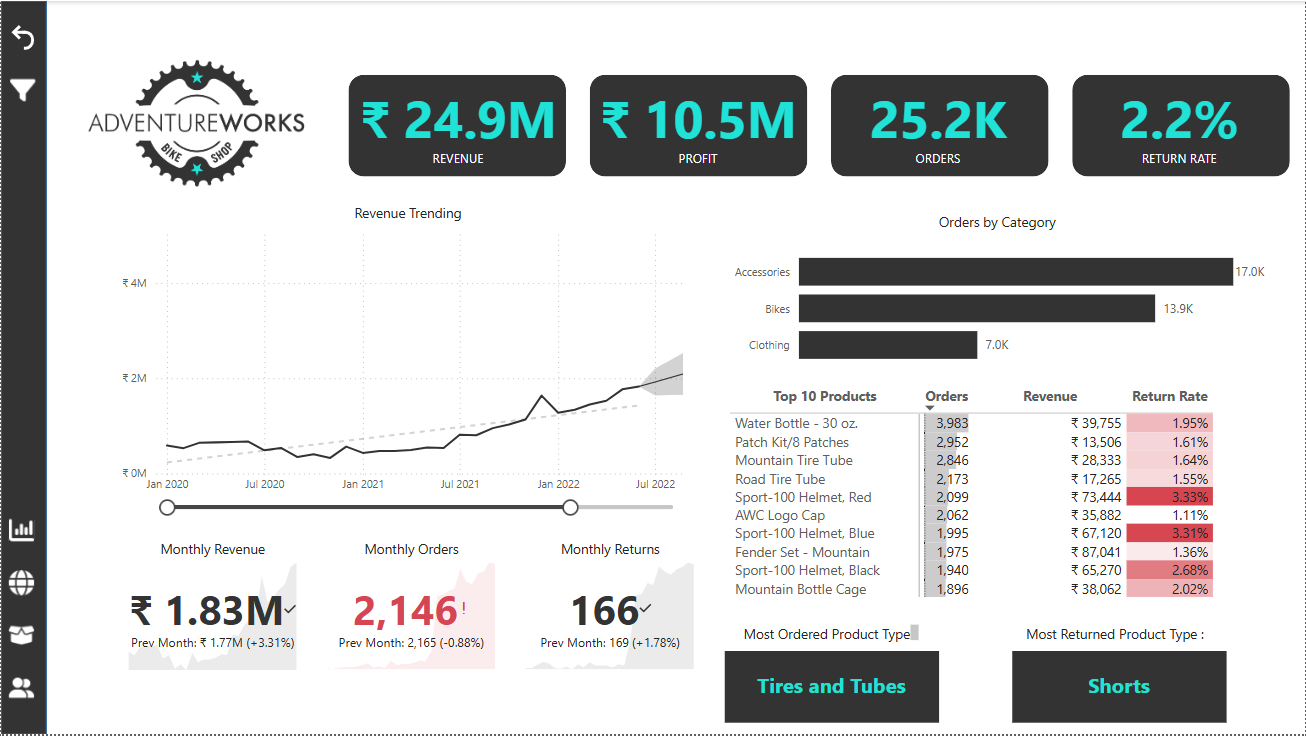

The dashboard page shown, as its layout file describes it:
{"tool":"powerbi","page":{"name":"Executive Dashboard","canvas":[1280,720],"ordinal":0},"visuals":[{"type":"image","title":"AW Logo","box":[57.5,22.5,270,196.2],"z":0},{"type":"card","title":"Revenue","fields":{"Values":["Measure Table.Total Revenue"]},"box":[325,35,247.5,172.5],"z":0,"group":"g2"},{"type":"group","id":"g1","title":"KPI Background","box":[341.2,71.2,923.8,100],"z":0,"group":"g3"},{"type":"shape","box":[341.2,71.2,213.8,100],"z":0,"group":"g1"},{"type":"actionButton","box":[3.7,503.1,36.8,33.1],"z":0,"group":"g4"},{"type":"shape","title":"Nav Bar Background","box":[0,0,45,720],"z":1000},{"type":"group","id":"g2","title":"KPI Values","box":[325,35,955,172.5],"z":1000,"group":"g3"},{"type":"card","title":"Return Rate","fields":{"Values":["Measure Table.Return Rate"]},"box":[1032.5,35,247.5,172.5],"z":1000,"group":"g2"},{"type":"shape","box":[1051.2,71.2,213.8,100],"z":1000,"group":"g1"},{"type":"actionButton","box":[3.7,554.6,36.8,33.1],"z":1000,"group":"g4"},{"type":"group","id":"g3","title":"KPIs","box":[325,35,955,172.5],"z":2000},{"type":"card","title":"Profit","fields":{"Values":["Measure Table.Total Profit"]},"box":[560.8,35,247.5,172.5],"z":2000,"group":"g2"},{"type":"shape","box":[814.5,71.2,213.8,100],"z":2000,"group":"g1"},{"type":"actionButton","box":[3.7,657.7,36.8,33.1],"z":2000,"group":"g4"},{"type":"card","title":"Orders","fields":{"Values":["Measure Table.Total Orders"]},"box":[796.7,35,247.5,172.5],"z":3000,"group":"g2"},{"type":"shape","box":[577.9,71.2,213.8,100],"z":3000,"group":"g1"},{"type":"lineChart","title":"Revenue Trending","fields":{"Y":["Measure Table.Total Revenue"],"Category":["Calendar Lookup.Year","Calendar Lookup.Start of Quarter","Calendar Lookup.Start of Month"]},"box":[114.1,198.8,570.6,309.2],"z":3000},{"type":"actionButton","box":[3.7,606.2,36.8,33.1],"z":3000,"group":"g4"},{"type":"kpi","title":"Monthly Revenue","fields":{"Indicator":["Measure Table.Total Revenue"],"TrendLine":["Calendar Lookup.Start of Month"],"Goal":["Measure Table.Previous Month Revenue"]},"box":[120,528.6,175,133],"z":4000},{"type":"kpi","title":"Monthly Orders","fields":{"TrendLine":["Calendar Lookup.Start of Month"],"Indicator":["Measure Table.Total Orders"],"Goal":["Measure Table.Previous Month Orders"]},"box":[315,528.8,175,132.5],"z":5000},{"type":"kpi","title":"Monthly Returns","fields":{"TrendLine":["Calendar Lookup.Start of Month"],"Indicator":["Measure Table.Total Returns"],"Goal":["Measure Table.Previous Month Returns"]},"box":[510,528.8,175,132.5],"z":6000},{"type":"clusteredBarChart","title":"Orders by Category","fields":{"Category":["Product Categories Lookup.CategoryName"],"Y":["Measure Table.Total Orders"]},"box":[710,207.5,535,165],"z":7000},{"type":"pivotTable","fields":{"Rows":["Product Lookup.ProductName"],"Values":["Measure Table.Total Orders","Measure Table.Total Revenue","Measure Table.Return Rate"]},"box":[710,372.5,555,228.8],"z":8000},{"type":"card","fields":{"Values":["Min(Product Subcategories Lookup.SubcategoryName)"]},"box":[711,637.6,210,70],"z":9000},{"type":"textbox","box":[723.9,607.4,181.6,30.7],"z":10000},{"type":"card","fields":{"Values":["Min(Product Subcategories Lookup.SubcategoryName)"]},"box":[993,637.6,210,70],"z":11000},{"type":"textbox","box":[1001.2,607.4,209.8,30.7],"z":12000},{"type":"actionButton","box":[4.9,17.2,34.4,36.8],"z":13000},{"type":"group","id":"g4","title":"Navigation buttons","box":[3.7,503.1,36.8,187.7],"z":14000},{"type":"actionButton","box":[4.9,71.2,40.5,33.1],"z":15000}]}

Visuals, with their boxes on the page's 1280x720 design canvas (x1, y1, x2, y2). These are canvas units, not pixel positions in the 1306x737 screenshot, which may show the page scaled, cropped or inside an application window:
"AW Logo" image: (58, 22, 328, 219)
"Revenue" card: (325, 35, 572, 208)
"KPI Background" group: (341, 71, 1265, 171)
shape: (341, 71, 555, 171)
actionButton: (4, 503, 40, 536)
"Nav Bar Background" shape: (0, 0, 45, 720)
"KPI Values" group: (325, 35, 1280, 208)
"Return Rate" card: (1032, 35, 1280, 208)
shape: (1051, 71, 1265, 171)
actionButton: (4, 555, 40, 588)
"KPIs" group: (325, 35, 1280, 208)
"Profit" card: (561, 35, 808, 208)
shape: (814, 71, 1028, 171)
actionButton: (4, 658, 40, 691)
"Orders" card: (797, 35, 1044, 208)
shape: (578, 71, 792, 171)
"Revenue Trending" lineChart: (114, 199, 685, 508)
actionButton: (4, 606, 40, 639)
"Monthly Revenue" kpi: (120, 529, 295, 662)
"Monthly Orders" kpi: (315, 529, 490, 661)
"Monthly Returns" kpi: (510, 529, 685, 661)
"Orders by Category" clusteredBarChart: (710, 208, 1245, 372)
pivotTable - Product Lookup.ProductName x Measure Table.Total Orders: (710, 372, 1265, 601)
card - Min(Product Subcategories Lookup.SubcategoryName): (711, 638, 921, 708)
textbox: (724, 607, 906, 638)
card - Min(Product Subcategories Lookup.SubcategoryName): (993, 638, 1203, 708)
textbox: (1001, 607, 1211, 638)
actionButton: (5, 17, 39, 54)
"Navigation buttons" group: (4, 503, 40, 691)
actionButton: (5, 71, 45, 104)
